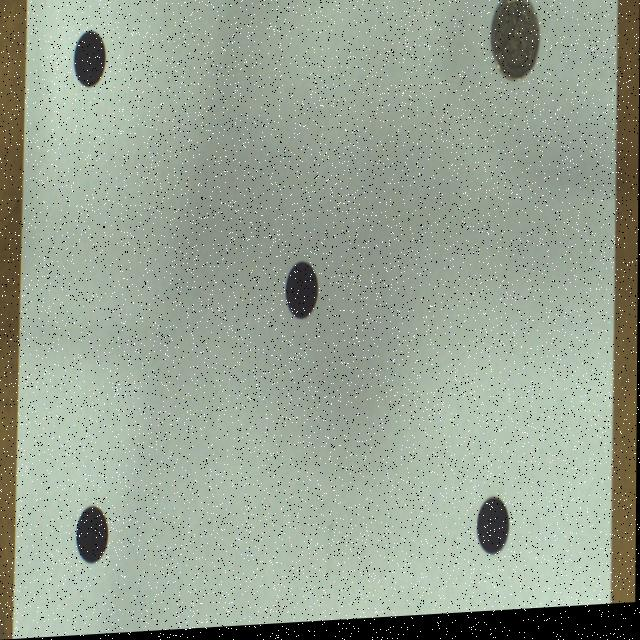space: (477, 504, 511, 561), (285, 266, 318, 323), (74, 33, 106, 90), (78, 509, 109, 563)
tail5bath: (491, 0, 540, 87)
